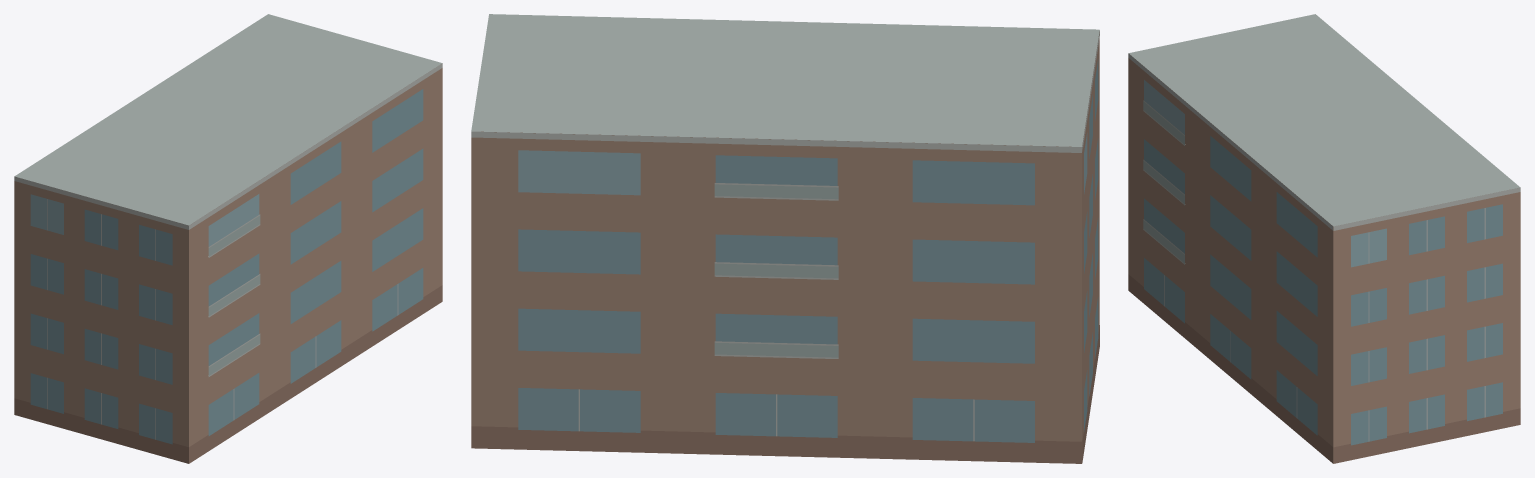
Rendered from survey-upis-32979515.glb.
3 views of the same model, side by side, from view 1: azimuth 30°, elevation 25°; view 2: azimuth 150°, elevation 25°; view 3: azimuth 270°, elevation 25° (orthographic). The views are drawn at different scales.
Visible parts, largest first — view 1: survey-upis-32979515.tmp; view 2: survey-upis-32979515.tmp; view 3: survey-upis-32979515.tmp.
Part boxes in pixels (x1,y1,x2,y2): survey-upis-32979515.tmp: [14, 14, 442, 463]; survey-upis-32979515.tmp: [471, 14, 1099, 463]; survey-upis-32979515.tmp: [1128, 14, 1520, 463].
Bounding box in the file's own units: 24.58 × 12.8 × 19.16.
